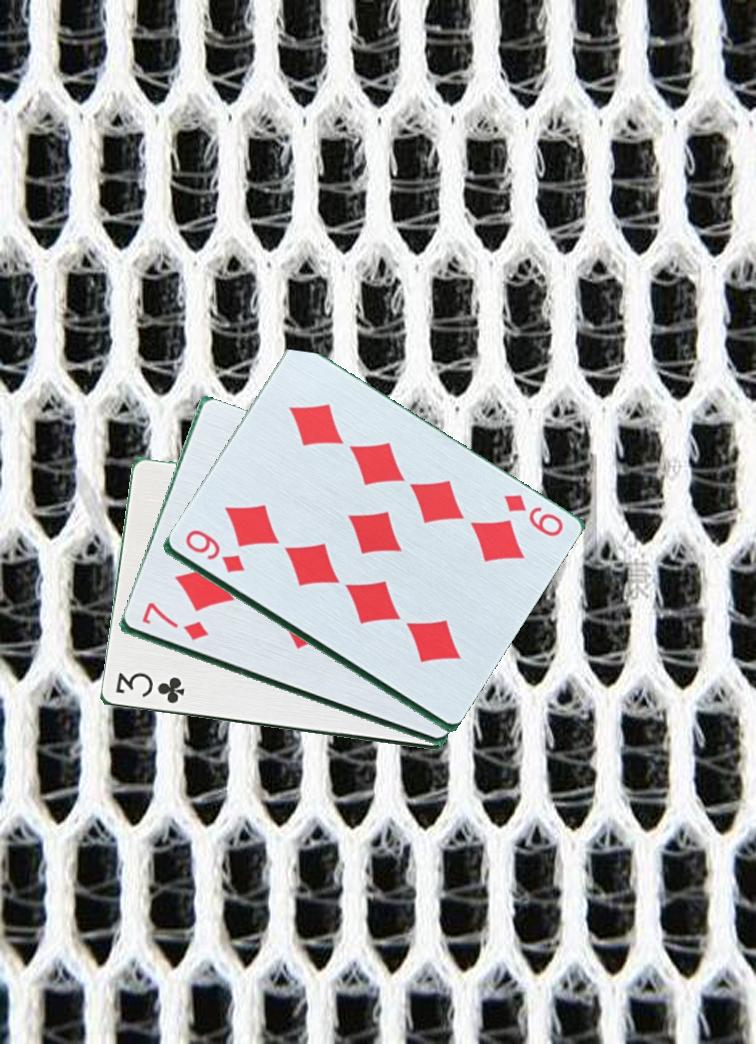3c: (111, 669, 196, 707)
7d: (137, 601, 214, 644)
9d: (499, 490, 571, 543), (180, 526, 247, 576)
